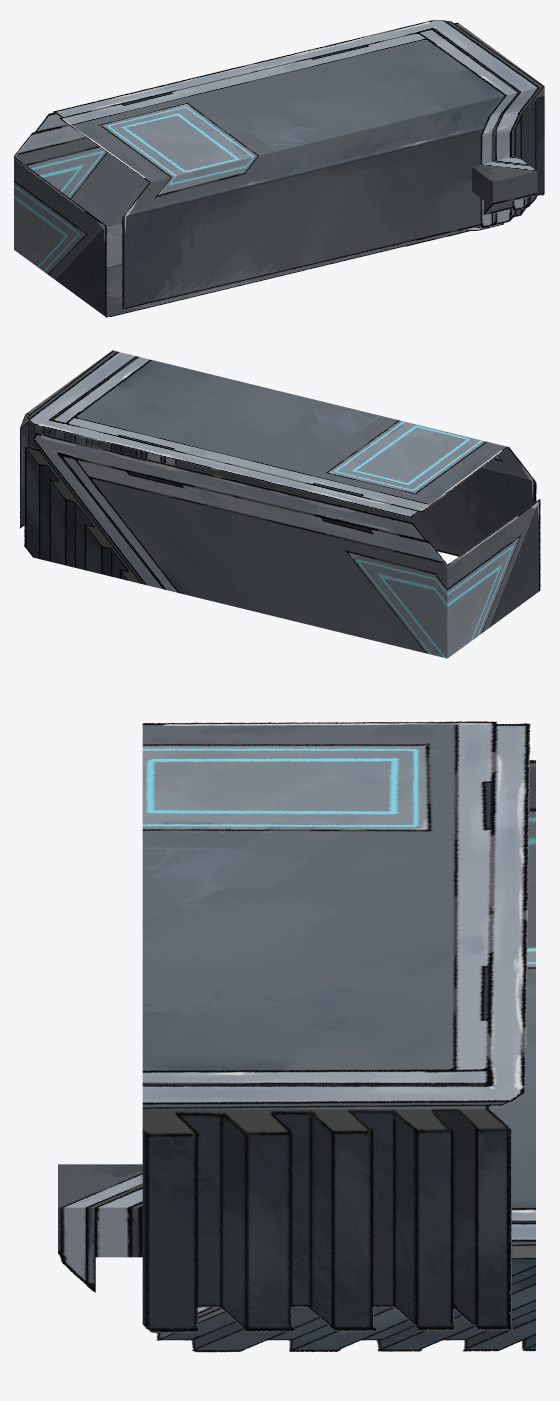
Rendered from B-4build3.fbx.
3 views of the same model, one above another, from view 1: azimuth 30°, elevation 25°; view 2: azimuth 150°, elevation 25°; view 3: azimuth 270°, elevation 25° (orthographic). The views are drawn at different scales.
Visible parts, largest first — view 1: 立方体; view 2: 立方体; view 3: 立方体.
Boxes of the visible parts, <box> form: 立方体: <box>14,20,544,317</box>; 立方体: <box>19,350,540,658</box>; 立方体: <box>58,721,535,1352</box>.
Size of the model in its own units: 2363 by 796 by 1211.
